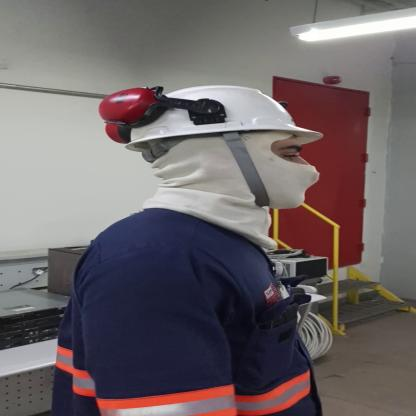Balaclava: (128, 142, 324, 252)
Capacete: (88, 80, 328, 143)
